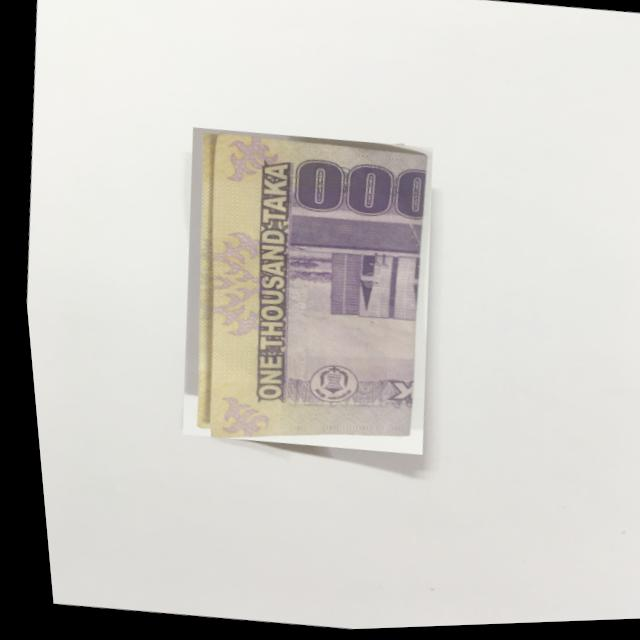Taka: (152, 122, 451, 465)
